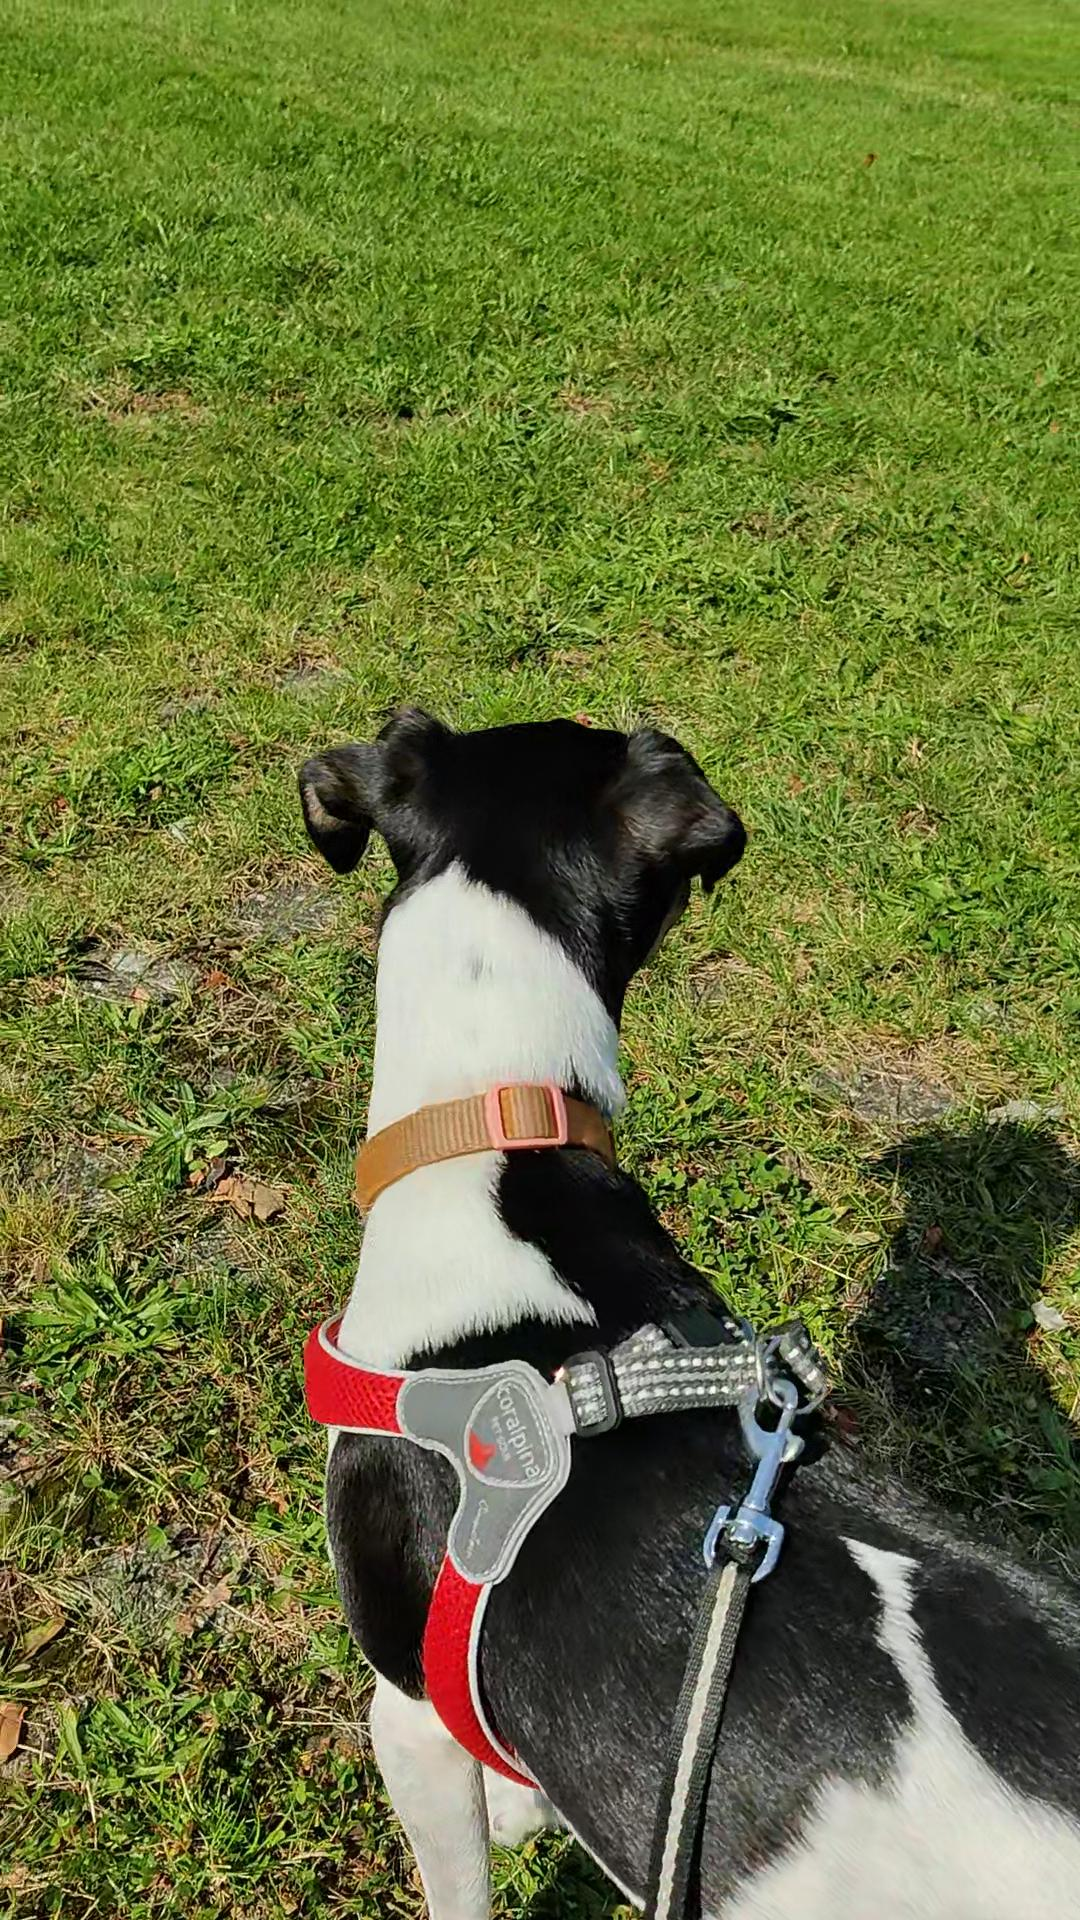Dog: (262, 676, 1079, 1919)
